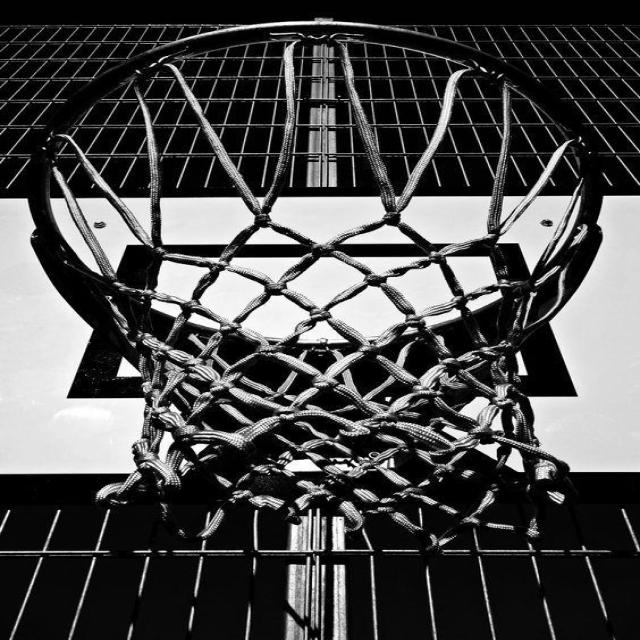hoop: (32, 0, 623, 532)
